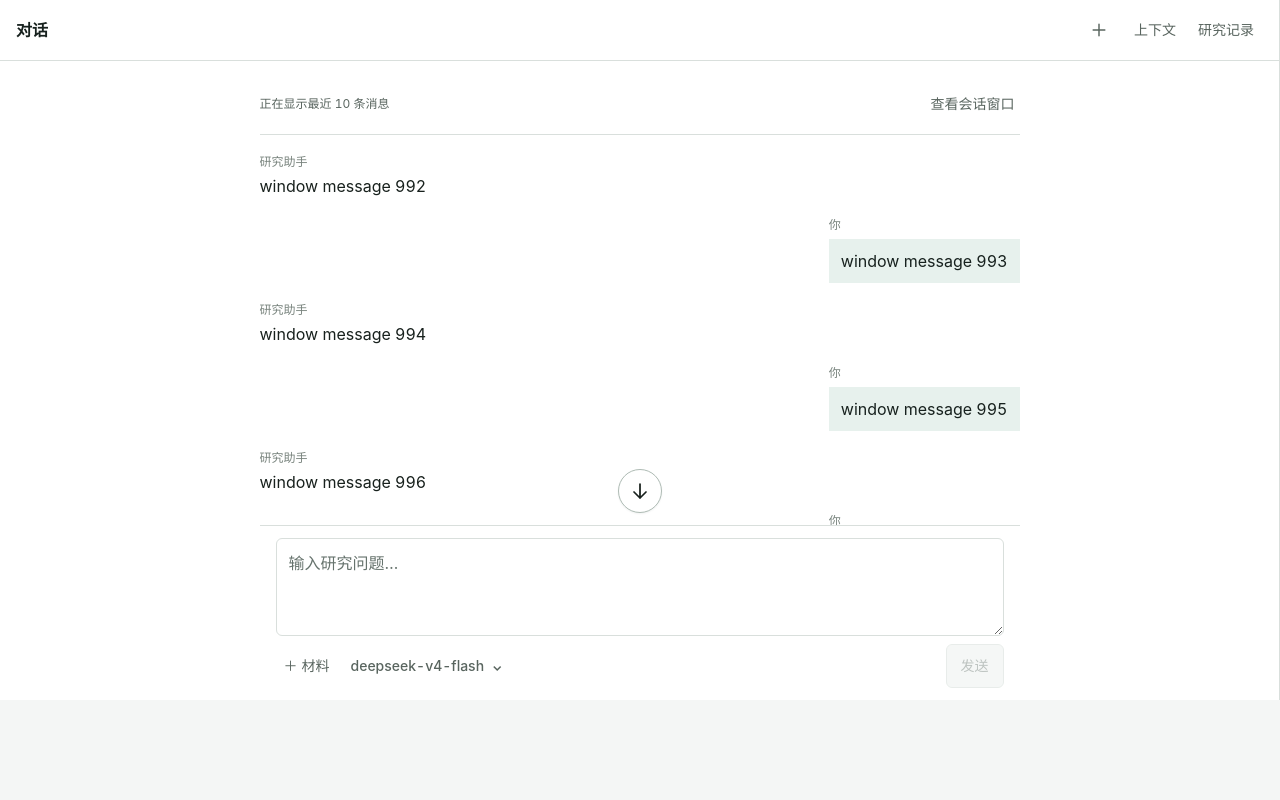
Test: keeps the real conversation DOM bounded and navigable across message windows
Click the button "查看会话窗口".
click(972, 104)  # box [926,86,1020,122]
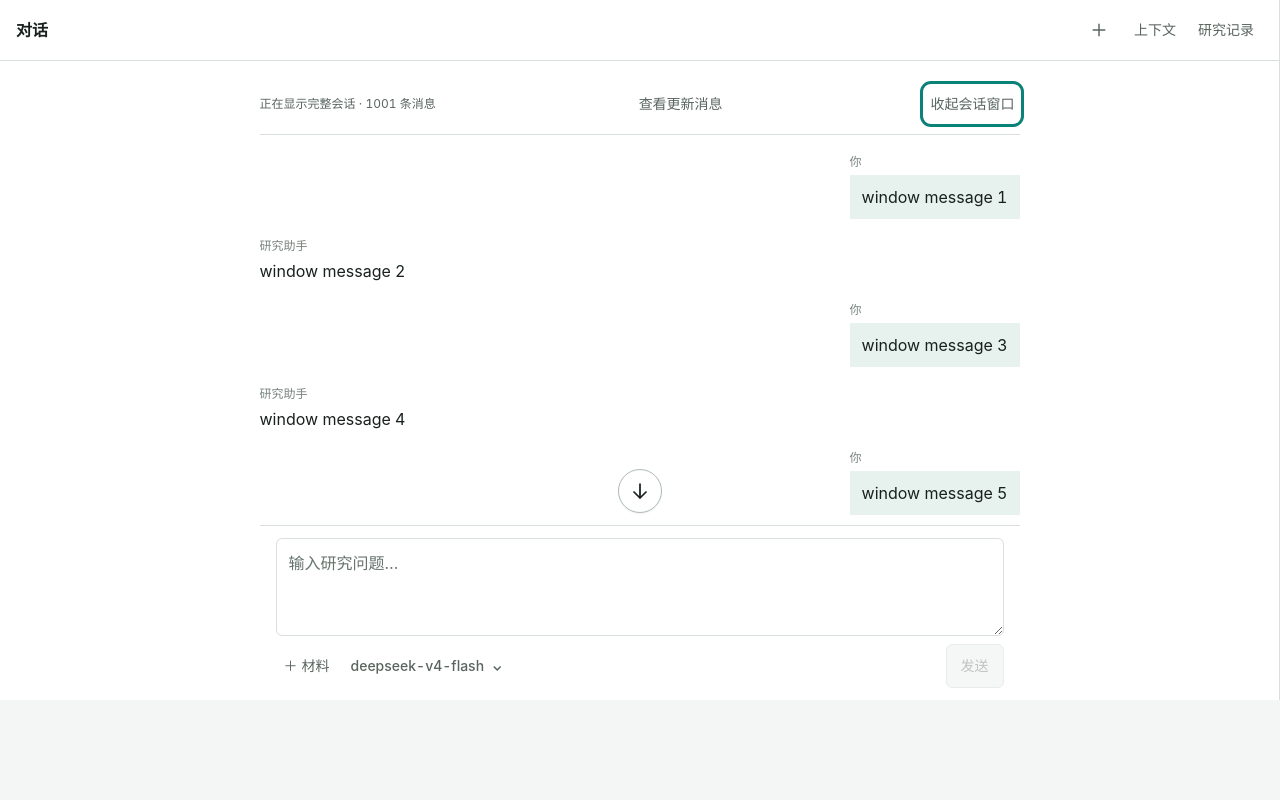
Expected: the text "window message 101" is not shown
Result: the text "window message 1" is shown at [850,175,1020,219]
Click the button "查看更新消息".
click(681, 104)  # box [634,86,728,122]
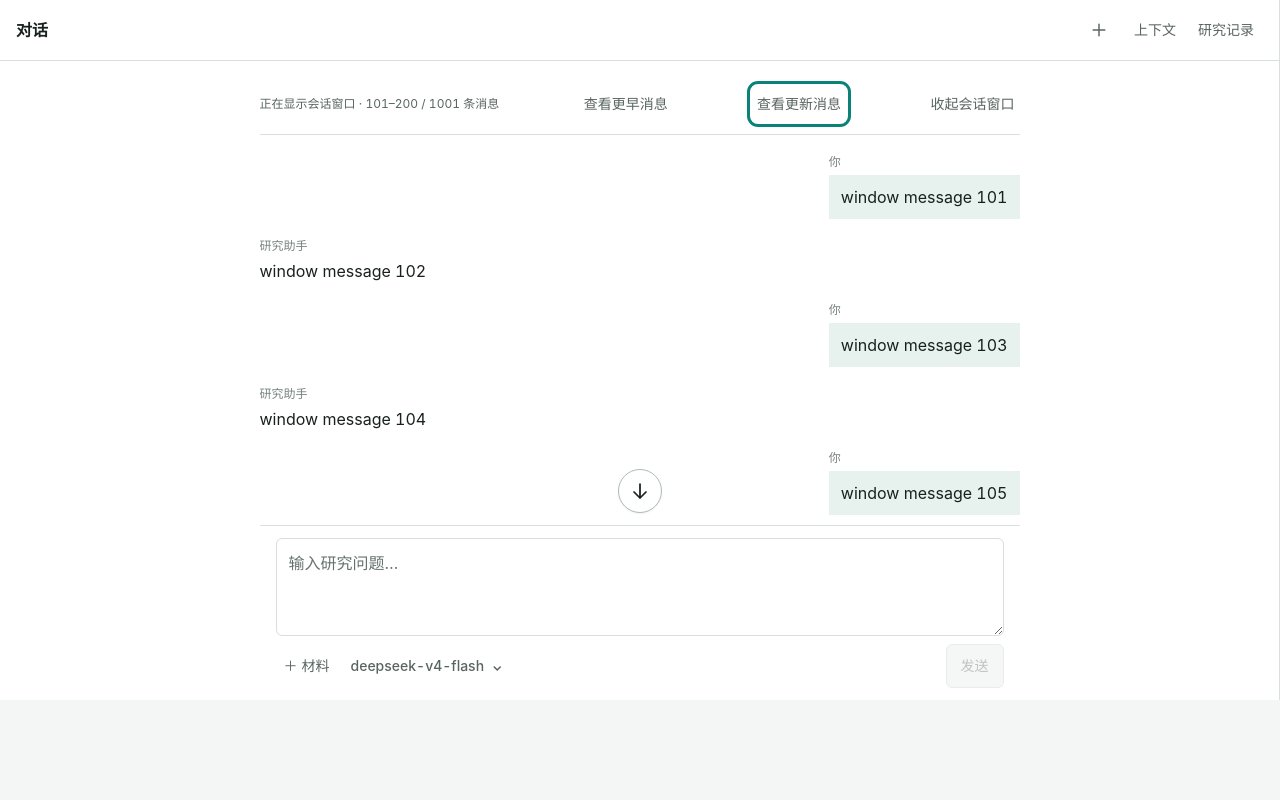
Result: the text "window message 101" is shown at [829,175,1020,219]
